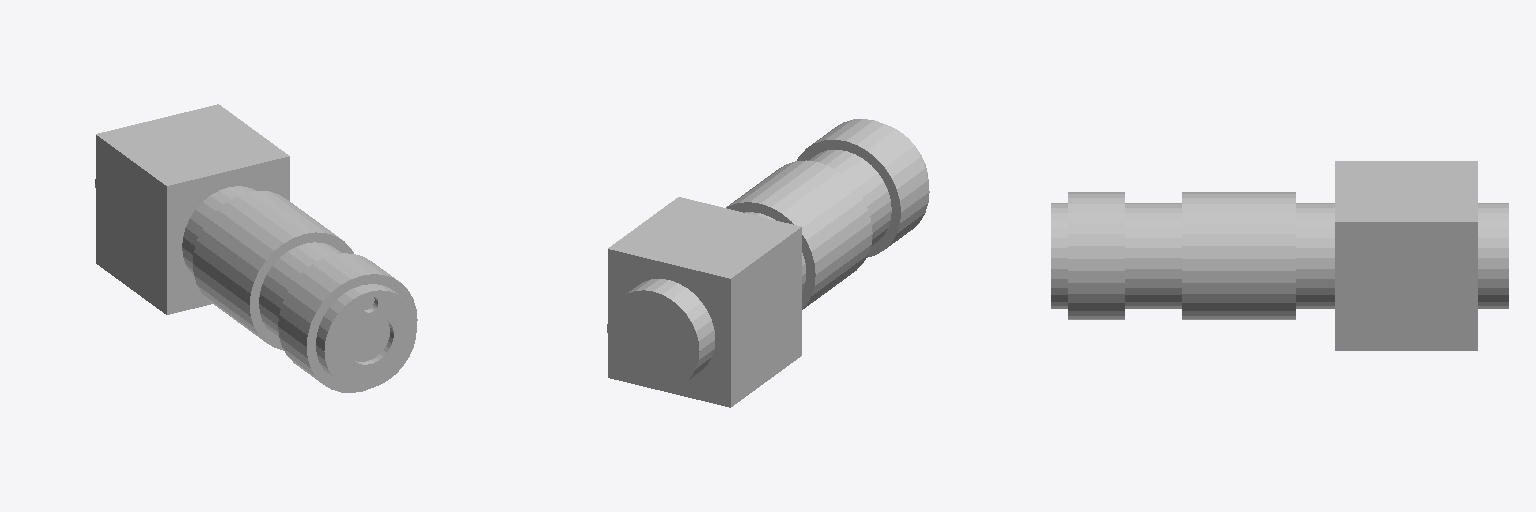
File: RangeFinder.obj
3 renders of one model, left to right at view 1: azimuth 30°, elevation 25°; view 2: azimuth 150°, elevation 25°; view 3: azimuth 270°, elevation 25°, orthographic.
Parts seen in each view (by area): view 1: 円柱; view 2: 円柱; view 3: 円柱.
Part boxes in pixels (bbox=[...]): 円柱: bbox=[95, 104, 417, 392]; 円柱: bbox=[607, 119, 929, 407]; 円柱: bbox=[1051, 161, 1508, 350].
Size of the model in its own units: 0.4 by 0.4 by 1.29.